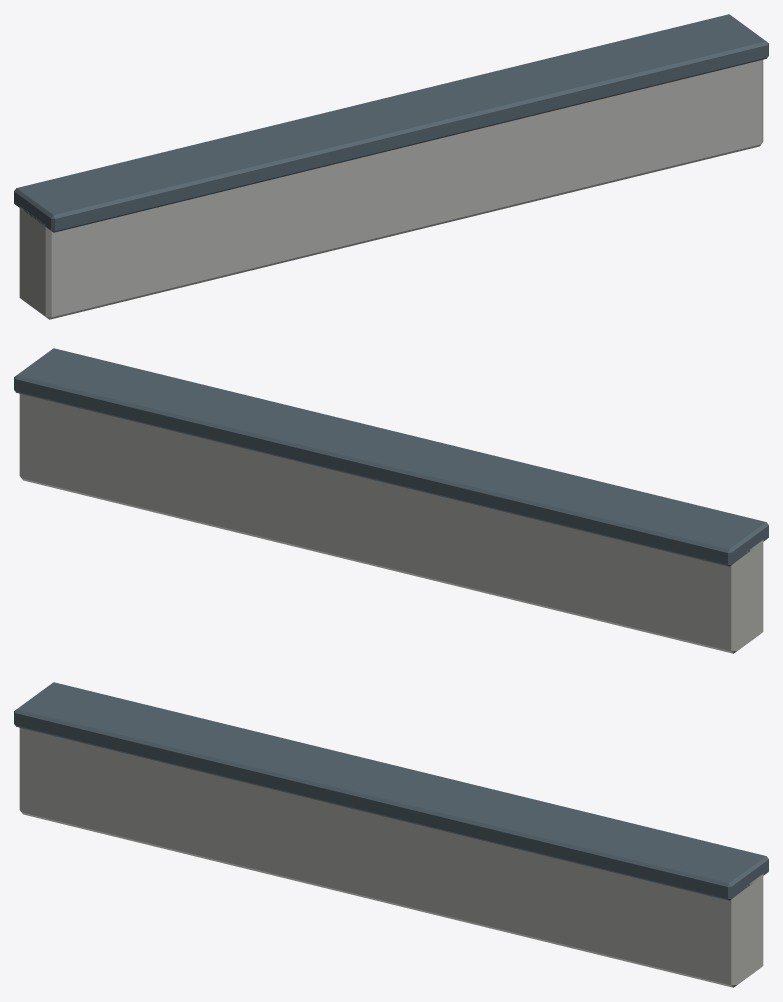
Rendered from BH_Roof_Edge.glb.
3 views of the same model, one above another, from view 1: azimuth 30°, elevation 25°; view 2: azimuth 150°, elevation 25°; view 3: azimuth 330°, elevation 25° (orthographic).
Parts seen in each view (by area): view 1: BH_Roof_Edge_RenderMesh; view 2: BH_Roof_Edge_RenderMesh; view 3: BH_Roof_Edge_RenderMesh.
Part boxes in pixels (x1=…): BH_Roof_Edge_RenderMesh: x1=14, y1=14, x2=768, y2=319; BH_Roof_Edge_RenderMesh: x1=14, y1=348, x2=768, y2=653; BH_Roof_Edge_RenderMesh: x1=14, y1=682, x2=768, y2=987.
Size of what is drawn, in the model's own units: 3 by 0.435 by 0.29.
